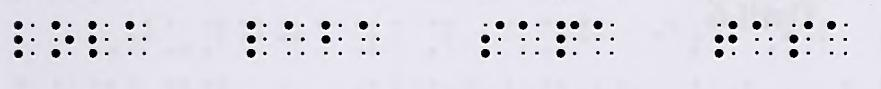a: (825, 19, 851, 56), (282, 19, 307, 57), (750, 19, 774, 58), (593, 19, 616, 56), (125, 20, 147, 57), (519, 19, 539, 57), (360, 21, 379, 54)
b: (321, 21, 344, 55)
l: (86, 20, 109, 59), (245, 20, 268, 59), (14, 22, 37, 58)
o: (50, 19, 74, 60)
p: (556, 21, 579, 56)
s: (482, 20, 505, 58), (790, 20, 812, 59)
t: (714, 20, 738, 56)
